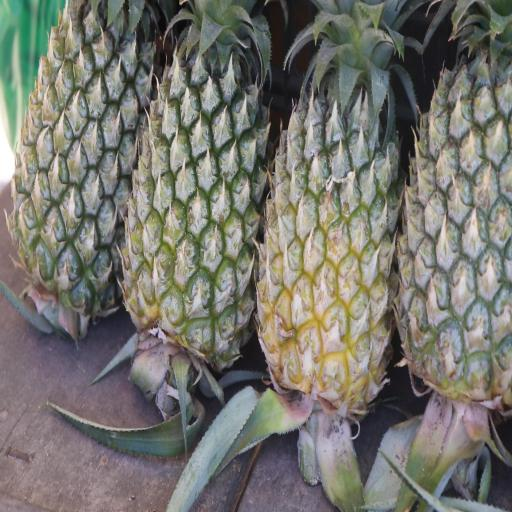------------------------------: (251, 0, 404, 432)
